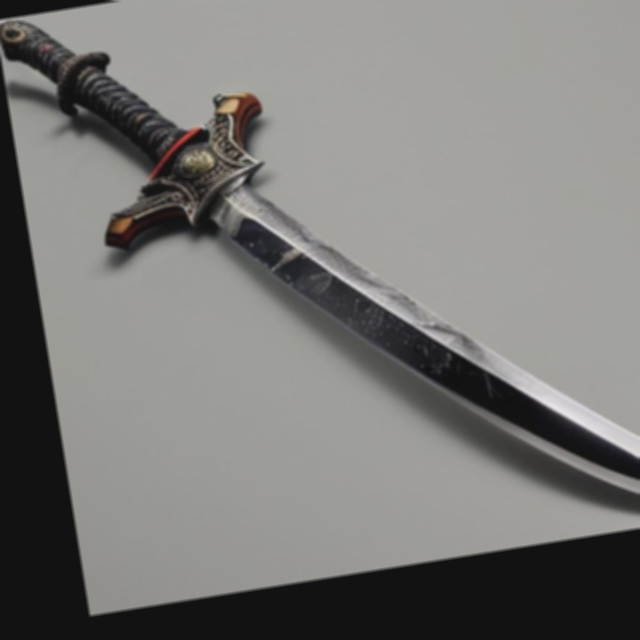Sharp-Object: (0, 0, 640, 613)
